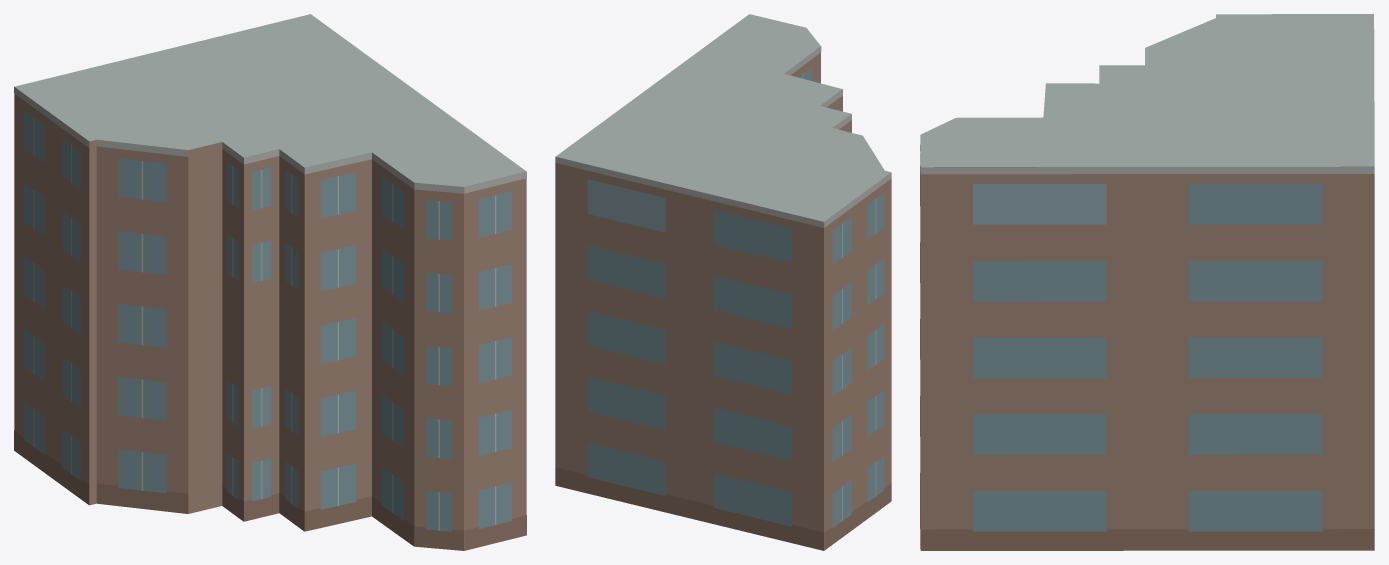
File: survey-upis-32700567.glb
3 renders of one model, left to right at view 1: azimuth 30°, elevation 25°; view 2: azimuth 150°, elevation 25°; view 3: azimuth 270°, elevation 25°, orthographic. The views are drawn at different scales.
Visible parts, largest first — view 1: survey-upis-32700567.tmp; view 2: survey-upis-32700567.tmp; view 3: survey-upis-32700567.tmp.
Part boxes in pixels (x1,y1,x2,y2): survey-upis-32700567.tmp: (14, 14, 526, 550); survey-upis-32700567.tmp: (555, 14, 891, 550); survey-upis-32700567.tmp: (920, 14, 1374, 550).
Bounding box in the file's own units: 11.22 × 13.1 × 14.08.
